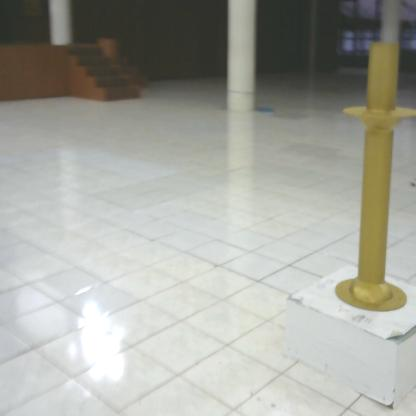pole: (334, 34, 416, 333)
